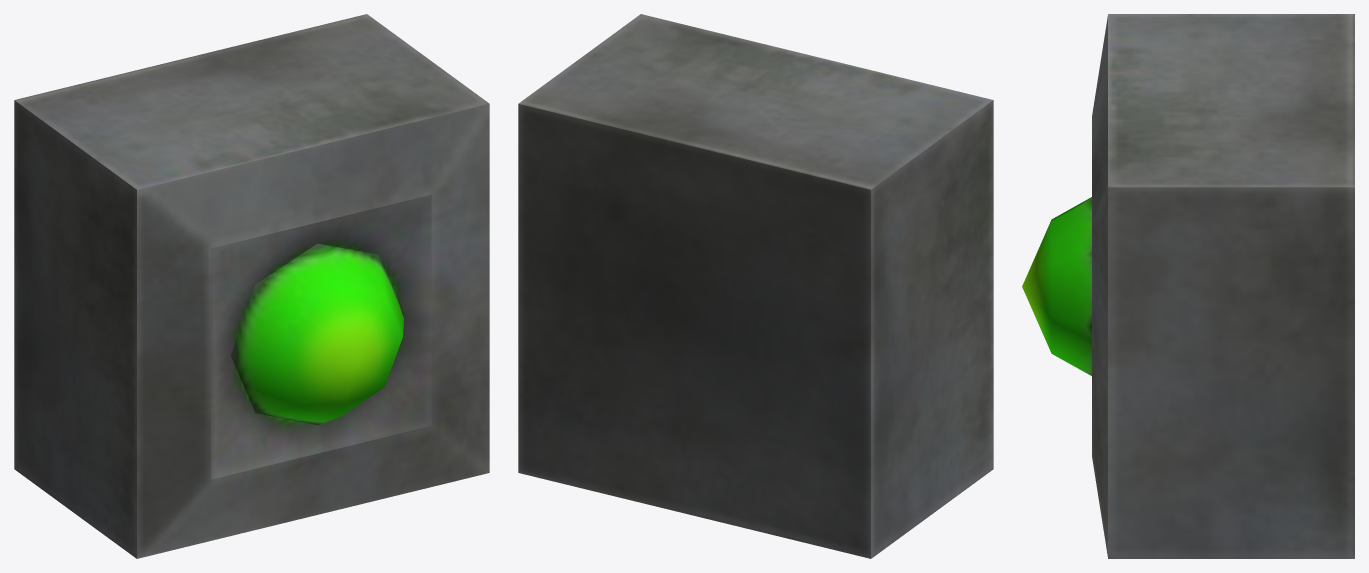
The model's file is hardware2.obj.
The picture shows the model from 3 angles, left to right: view 1: azimuth 30°, elevation 25°; view 2: azimuth 150°, elevation 25°; view 3: azimuth 270°, elevation 25°; orthographic projection.
Parts seen in each view (by area): view 1: Object06; view 2: Object06; view 3: Object06.
Part boxes in pixels (x1,y1,x2,y2): Object06: [14, 14, 489, 558]; Object06: [518, 14, 993, 558]; Object06: [1022, 14, 1354, 558].
Size of the model in its own units: 20.04 by 20.04 by 16.27.
1 material, 1 textured.
